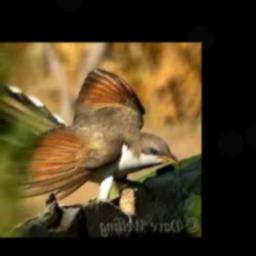Cuckoo: (0, 67, 181, 202)
